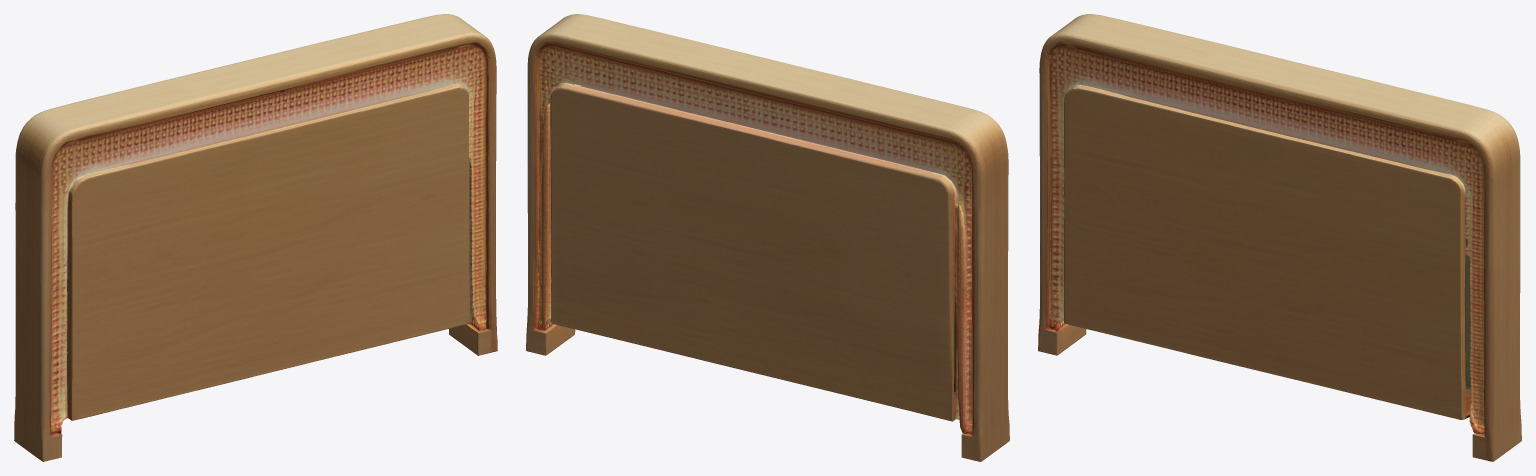
The model's file is CABECERA MADRID.glb.
3 renders of one model, left to right at view 1: azimuth 30°, elevation 25°; view 2: azimuth 150°, elevation 25°; view 3: azimuth 330°, elevation 25°, orthographic.
Visible parts, largest first — view 1: world; view 2: world; view 3: world.
Boxes of the visible parts, x1=… form: world: x1=14, y1=14, x2=497, y2=461; world: x1=526, y1=14, x2=1009, y2=461; world: x1=1038, y1=14, x2=1521, y2=461.
Size of the model in its own units: 1 by 0.6809 by 0.1328.
Materials: 1 (1 with a texture image).
